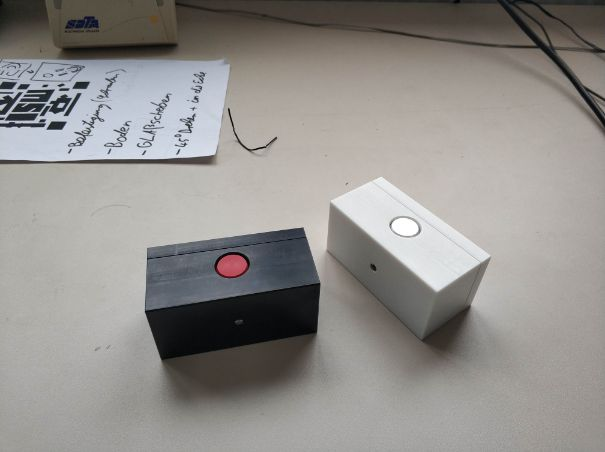black+black+red: (142, 224, 323, 363)
white+white+silver: (325, 174, 494, 346)
